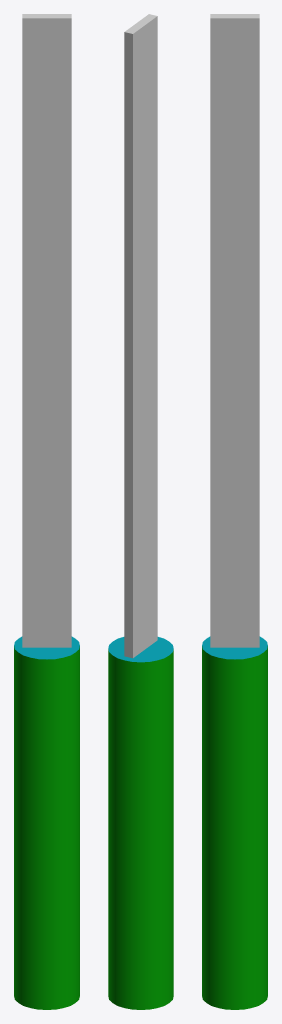
Rendered from bobin.FBX.
3 views of the same model, side by side, from view 1: azimuth 90°, elevation 25°; view 2: azimuth 150°, elevation 25°; view 3: azimuth 270°, elevation 25° (orthographic).
Parts seen in each view (by area): view 1: Object003, Cylinder003; view 2: Cylinder003, Object003; view 3: Object003, Cylinder003.
Boxes of the visible parts, x1,y1,x2,y2 form: Object003: (22,14,71,647); Cylinder003: (14,636,79,1009); Cylinder003: (108,637,173,1009); Object003: (124,14,157,658); Object003: (210,14,259,647); Cylinder003: (202,636,267,1009).
Size of the model in its own units: 6.64 by 109 by 6.64.
